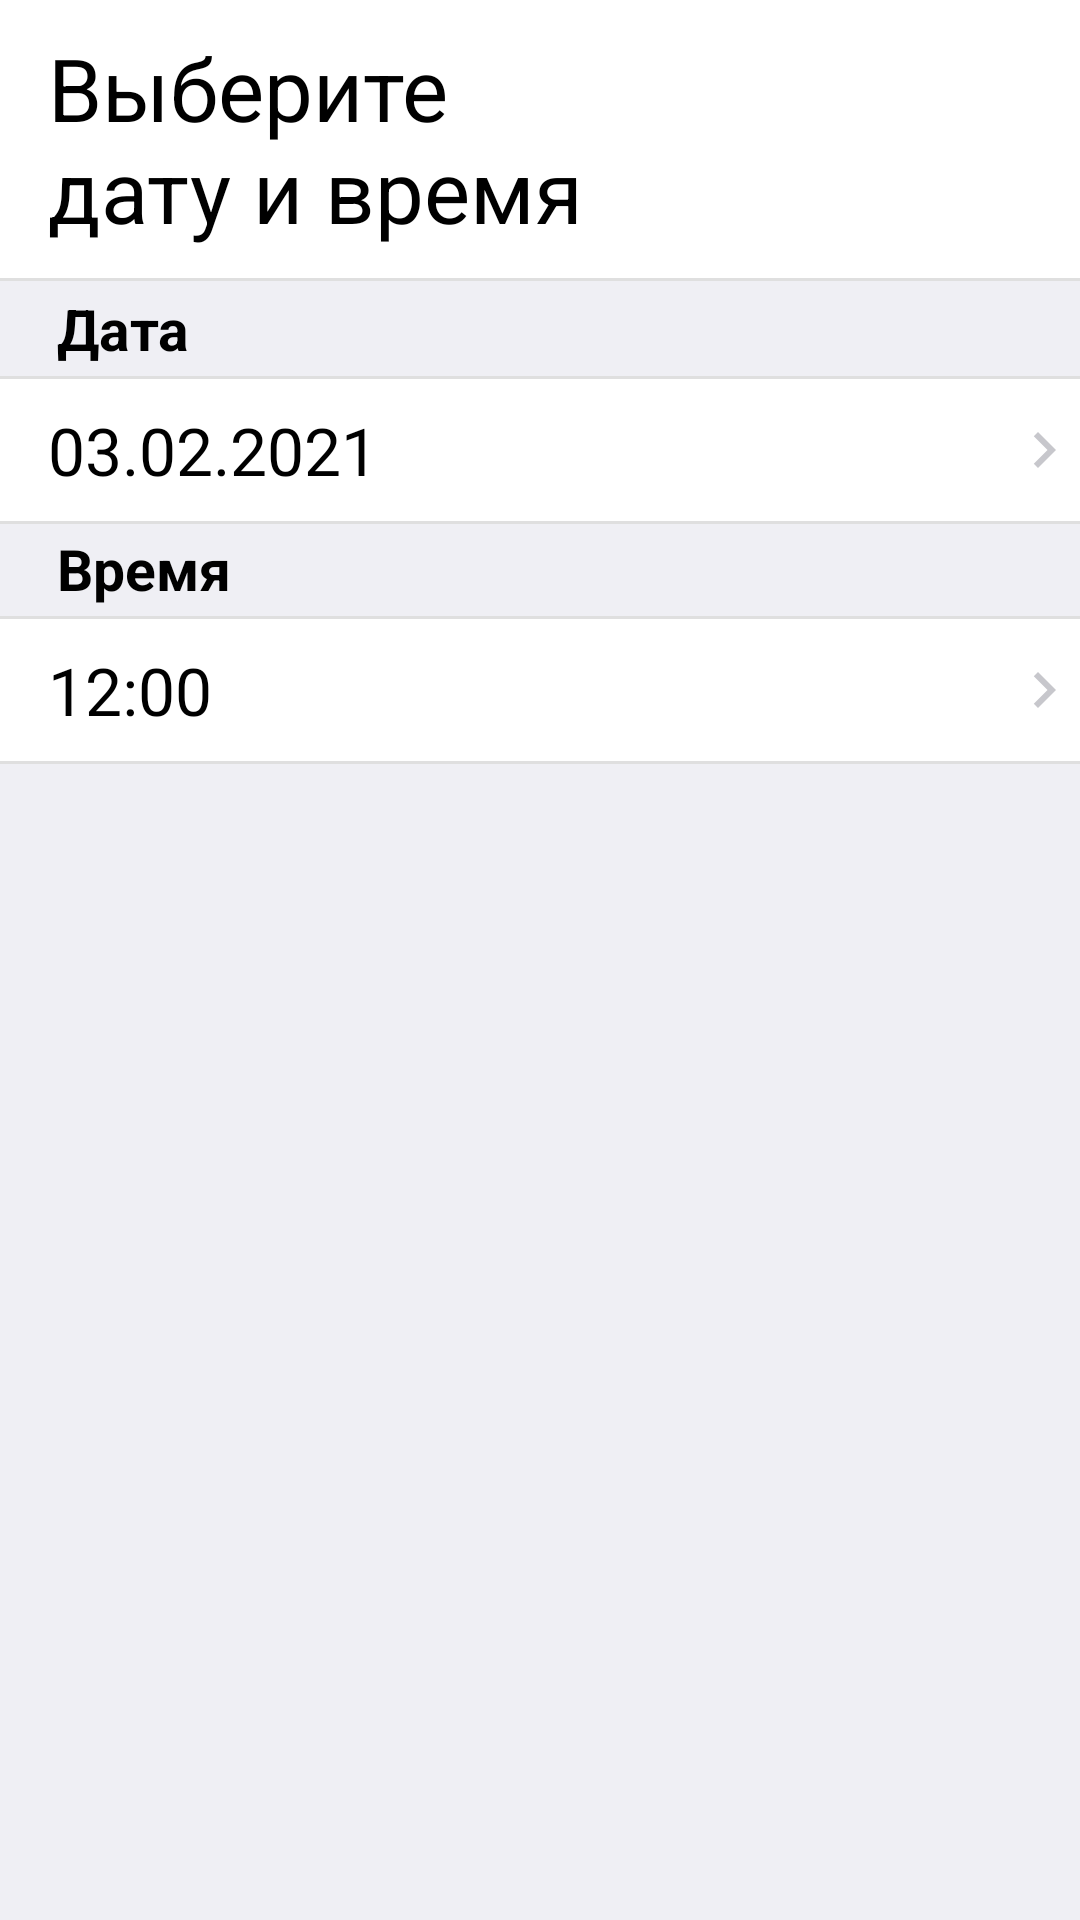

Icons on this 1080w x 1920h Android screen, each with the point to tap as (x=x, y=y):
next: (x=1045, y=450), (x=1045, y=690)
